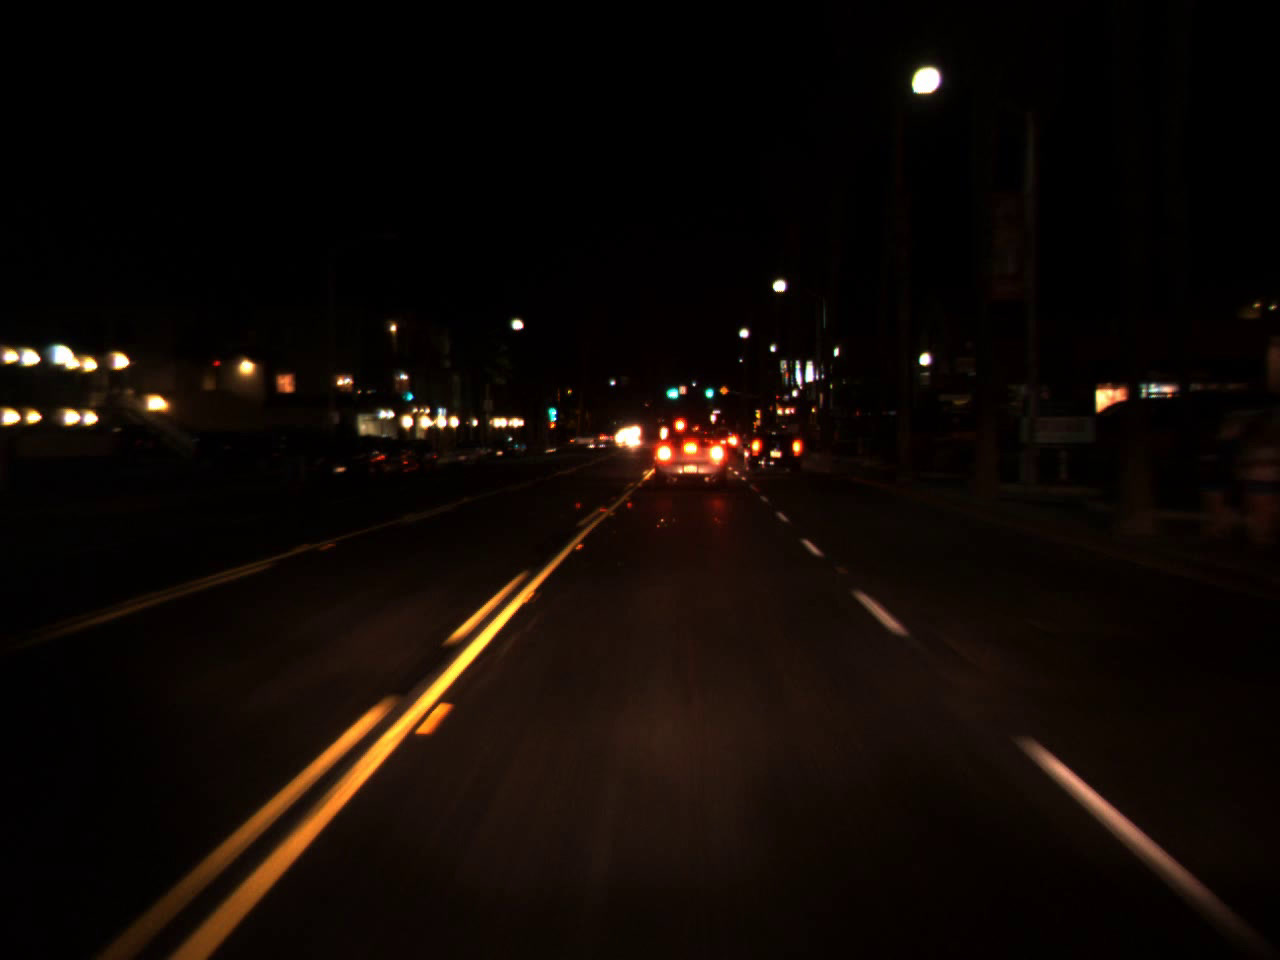go: (663, 375, 681, 402), (547, 392, 556, 425), (703, 379, 713, 400)
